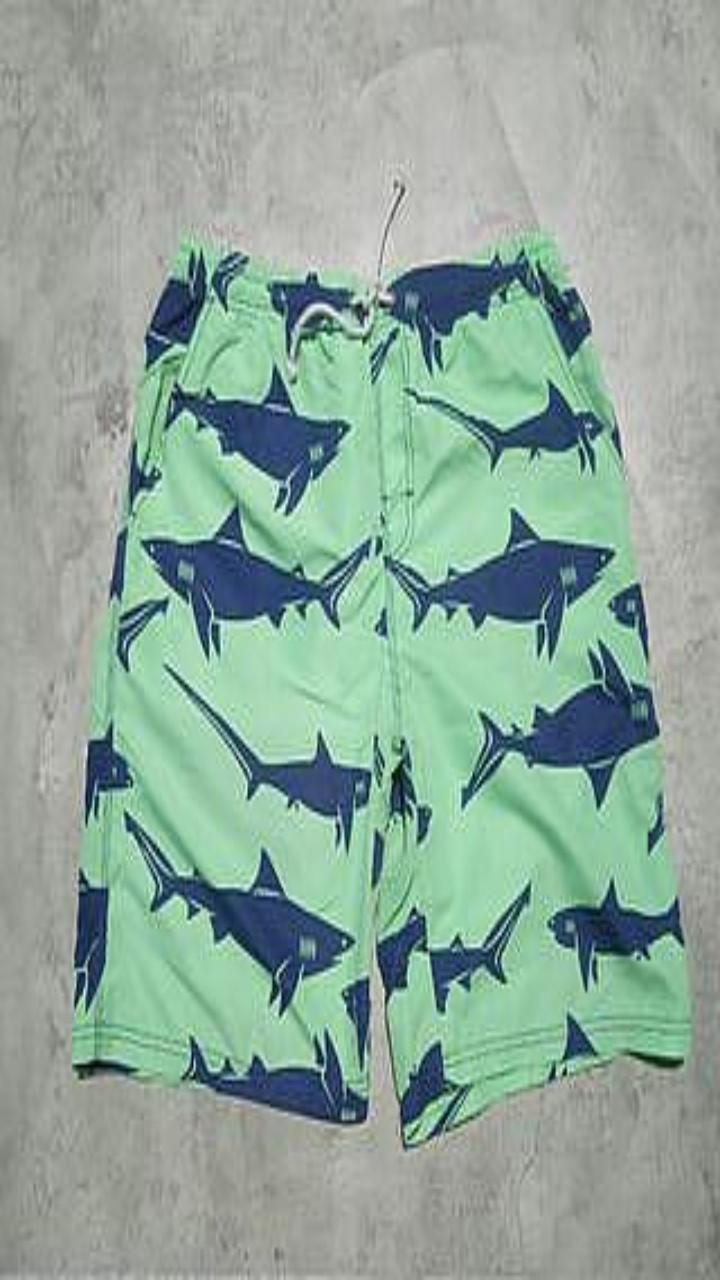Shorts: (72, 230, 690, 1146)
